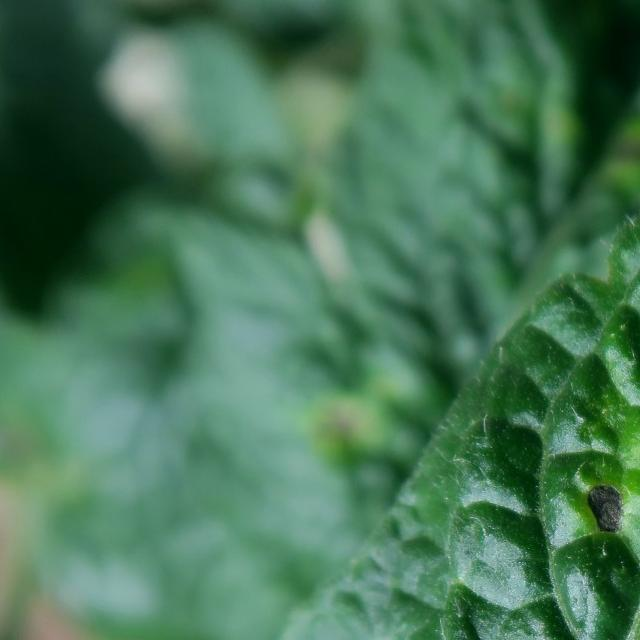Tomato leaf bacterial spot: (270, 0, 640, 640)
